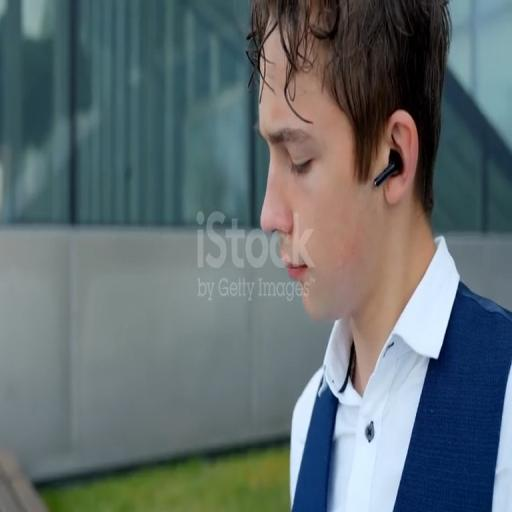earphone: (374, 135, 405, 197)
